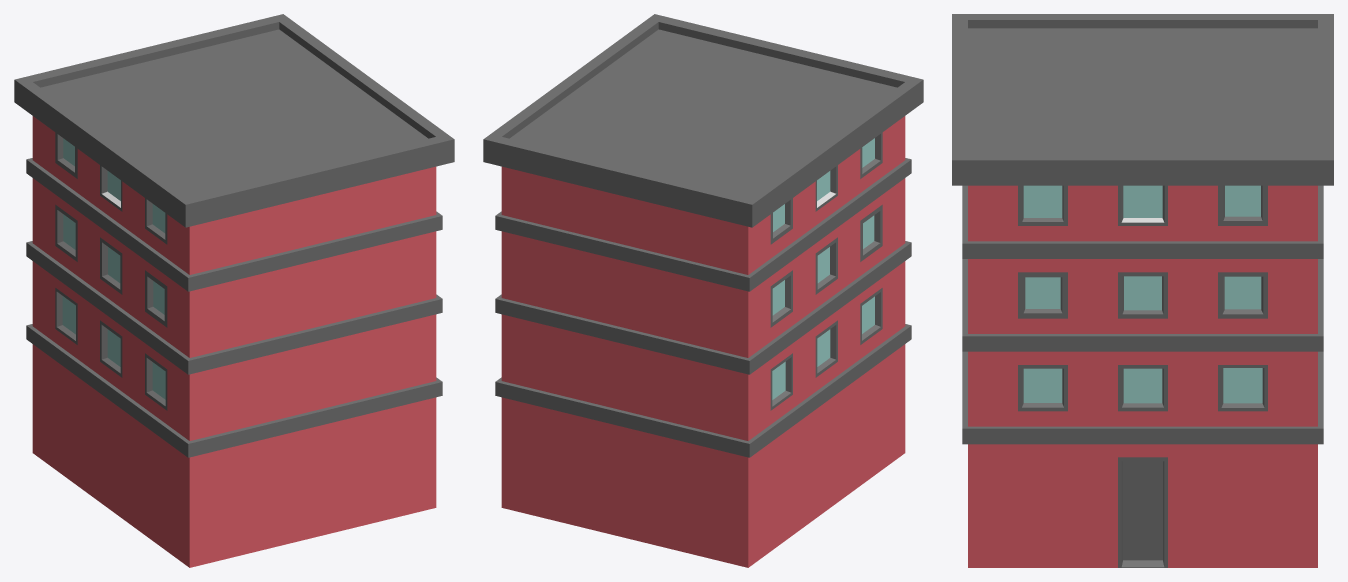
Rendered from HDB.fbx.
3 renders of one model, left to right at view 1: azimuth 30°, elevation 25°; view 2: azimuth 150°, elevation 25°; view 3: azimuth 270°, elevation 25°, orthographic. The views are drawn at different scales.
Parts seen in each view (by area): view 1: HDB; view 2: HDB; view 3: HDB.
Boxes of the visible parts, box(x1,y1,x2,y2) form: HDB: box(14, 14, 454, 567); HDB: box(483, 14, 923, 567); HDB: box(952, 14, 1333, 567).
Bounding box in the file's own units: 17.79 × 23.47 × 19.62.
